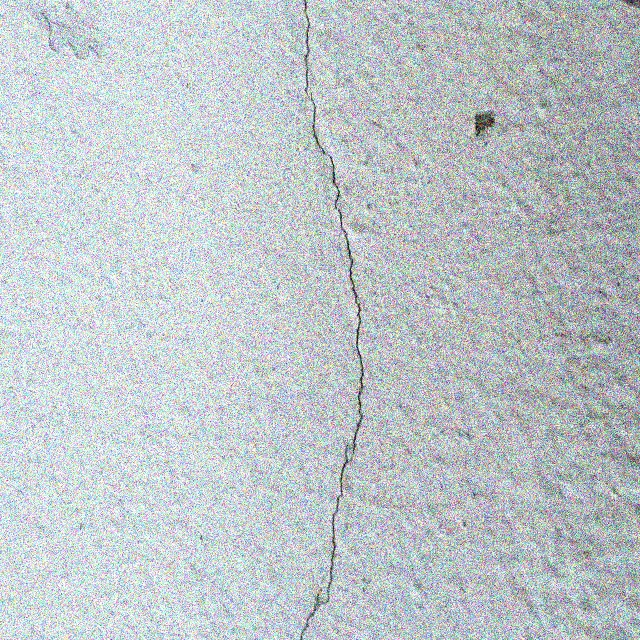SurfaceCrack: (256, 0, 404, 640)
